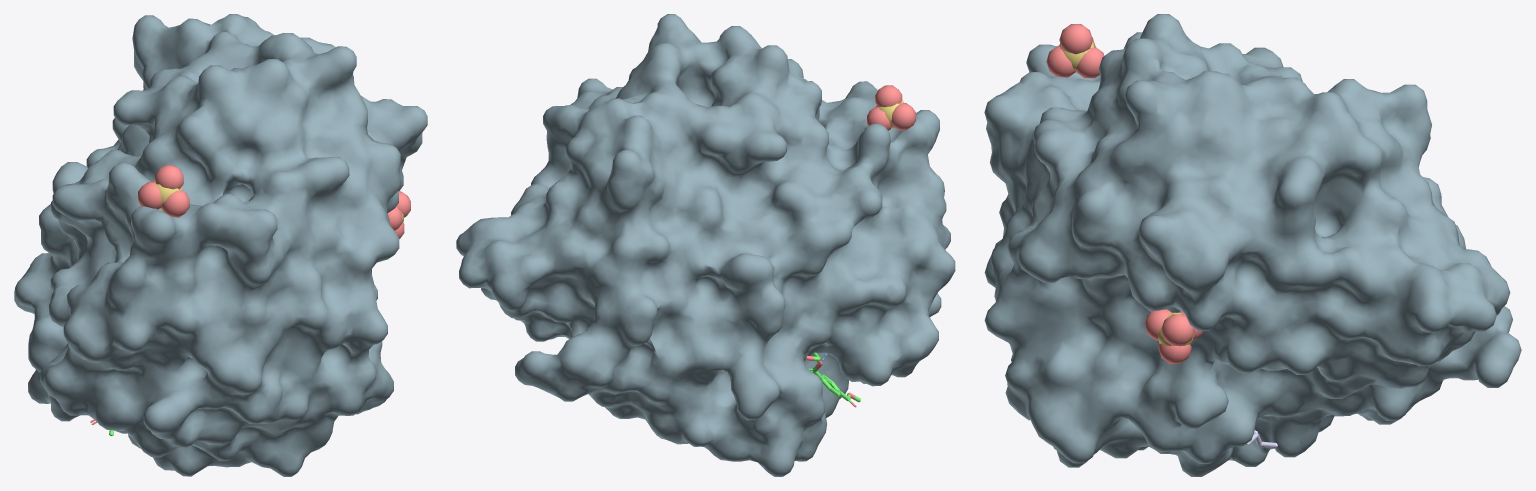
The model's file is ispetase_dm-hemt_enzyme_complex.glb.
3 renders of one model, left to right at view 1: azimuth 30°, elevation 25°; view 2: azimuth 150°, elevation 25°; view 3: azimuth 270°, elevation 25°, orthographic. The views are drawn at different scales.
Visible parts, largest first — view 1: geom246-material, geom247-material, geom244-material, geom245-material, geom243-material; view 2: geom246-material, geom247-material, geom243-material; view 3: geom246-material, geom247-material, geom237-material, geom245-material, geom242-material, geom244-material.
Boxes of the visible parts, box(x1,y1,x2,y2) form: geom246-material: box(14, 14, 427, 476); geom247-material: box(28, 14, 400, 476); geom244-material: box(162, 190, 189, 217); geom245-material: box(155, 165, 183, 189); geom243-material: box(138, 182, 161, 209); geom246-material: box(456, 14, 955, 476); geom247-material: box(456, 26, 955, 474); geom243-material: box(891, 103, 915, 130); geom246-material: box(984, 14, 1521, 476); geom247-material: box(984, 21, 1514, 476); geom237-material: box(1161, 314, 1194, 345); geom245-material: box(1059, 24, 1092, 54); geom242-material: box(1075, 46, 1104, 78); geom244-material: box(1046, 45, 1075, 77).
Size of the model in its own units: 45.33 by 44.53 by 48.35.
